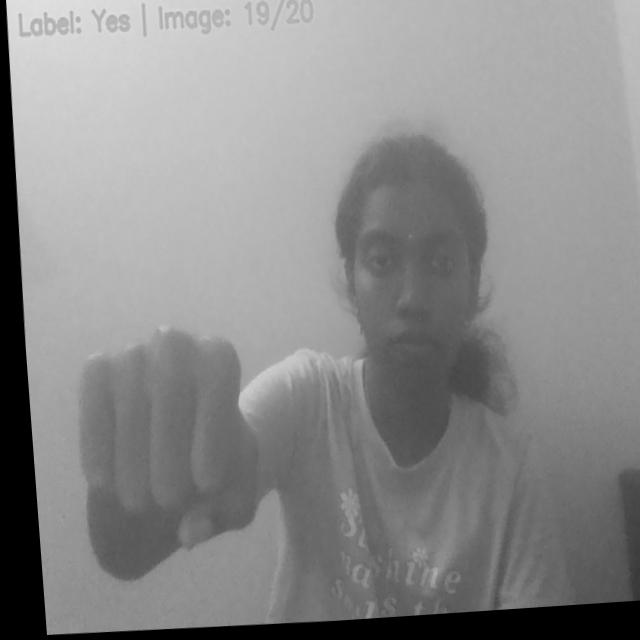Yes: (58, 318, 273, 566)
